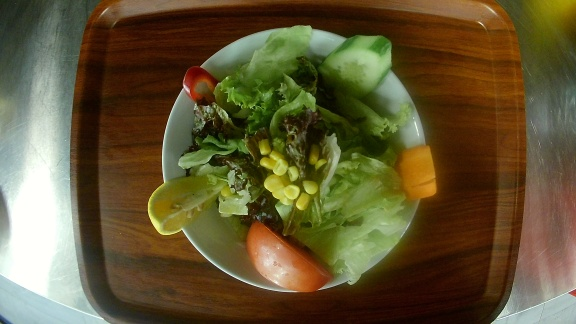salata: (154, 25, 435, 292)
